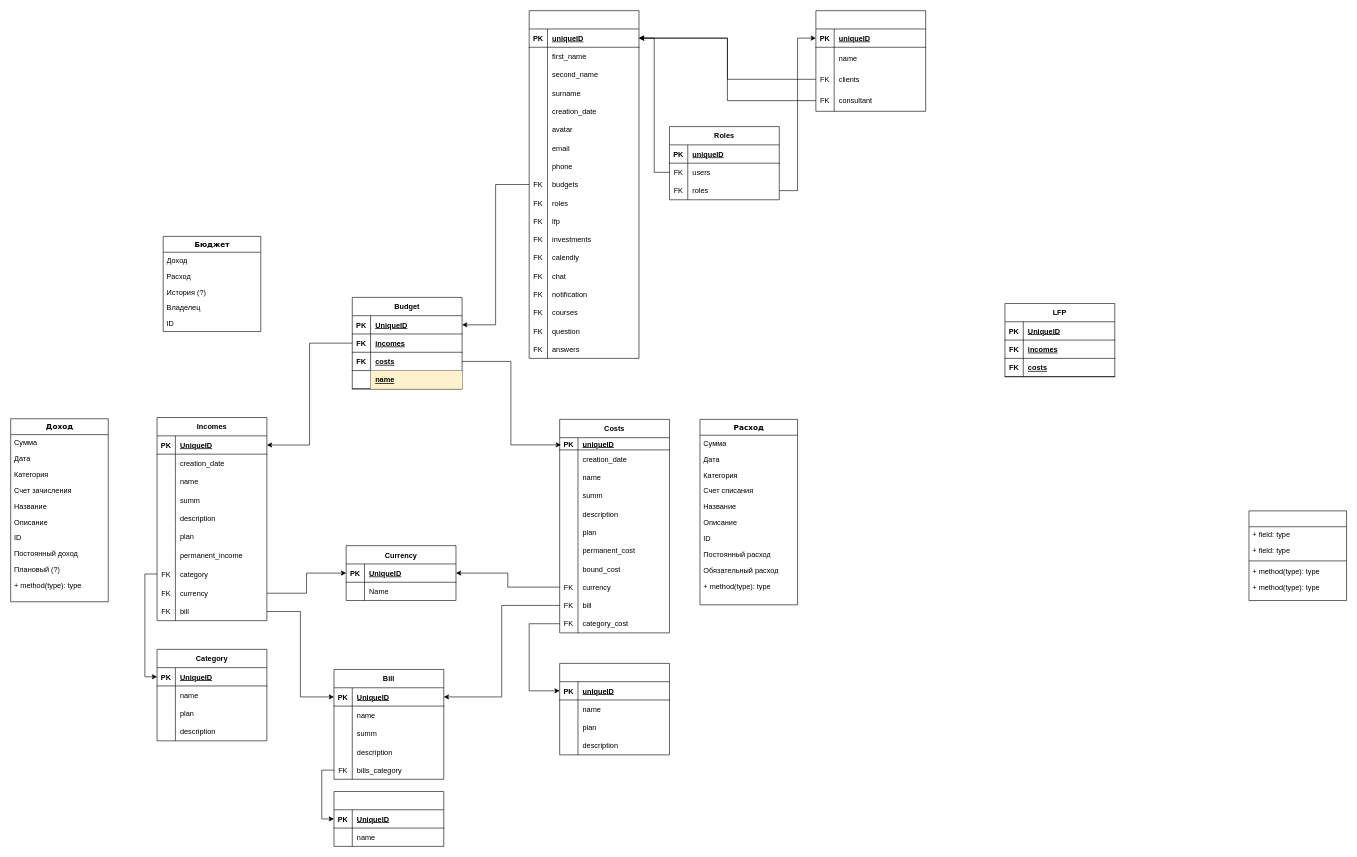
Some shapes in this 1357 by 857 pixel diagram are drawn without their labels. The box of each missing label's shape, as (x1, y1, x2, y2) in pixels:
BillsCategory: (333, 791, 444, 846)
CategoryCost: (559, 663, 669, 755)
Classname: (1248, 510, 1347, 601)
Roles_name: (815, 10, 926, 111)
User: (529, 10, 639, 358)
